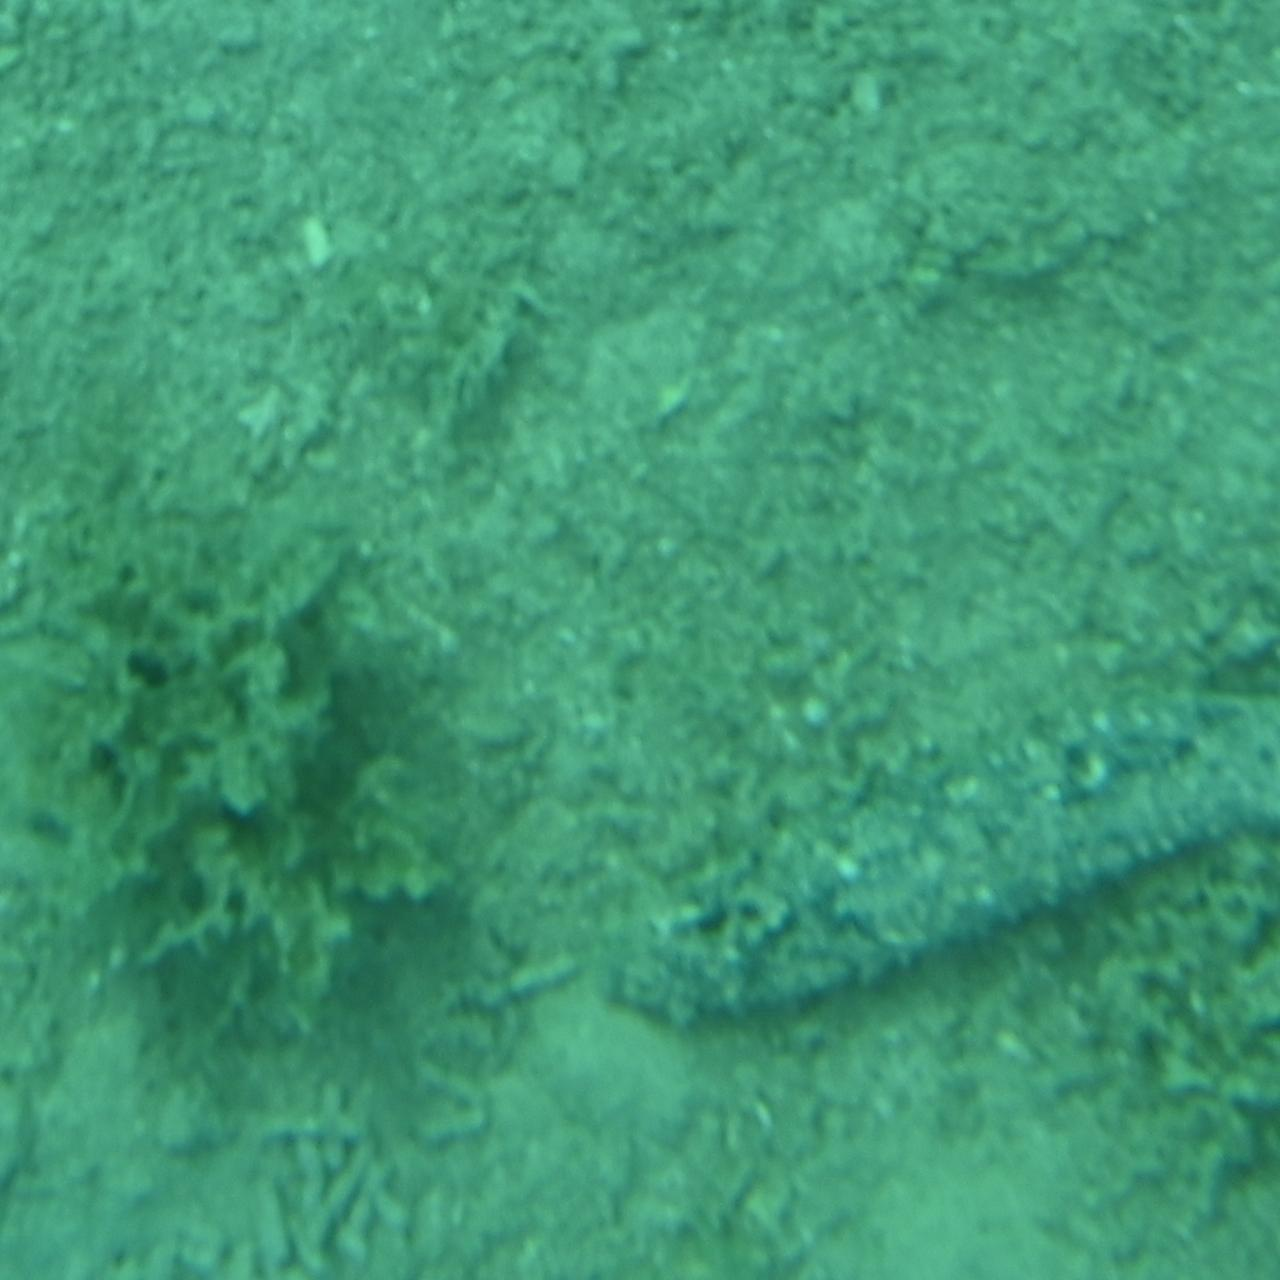Holothuria tubulosa: (591, 692, 1280, 1050)
Phaeophyceae -cfr Cystoseira-: (0, 484, 510, 1076)
